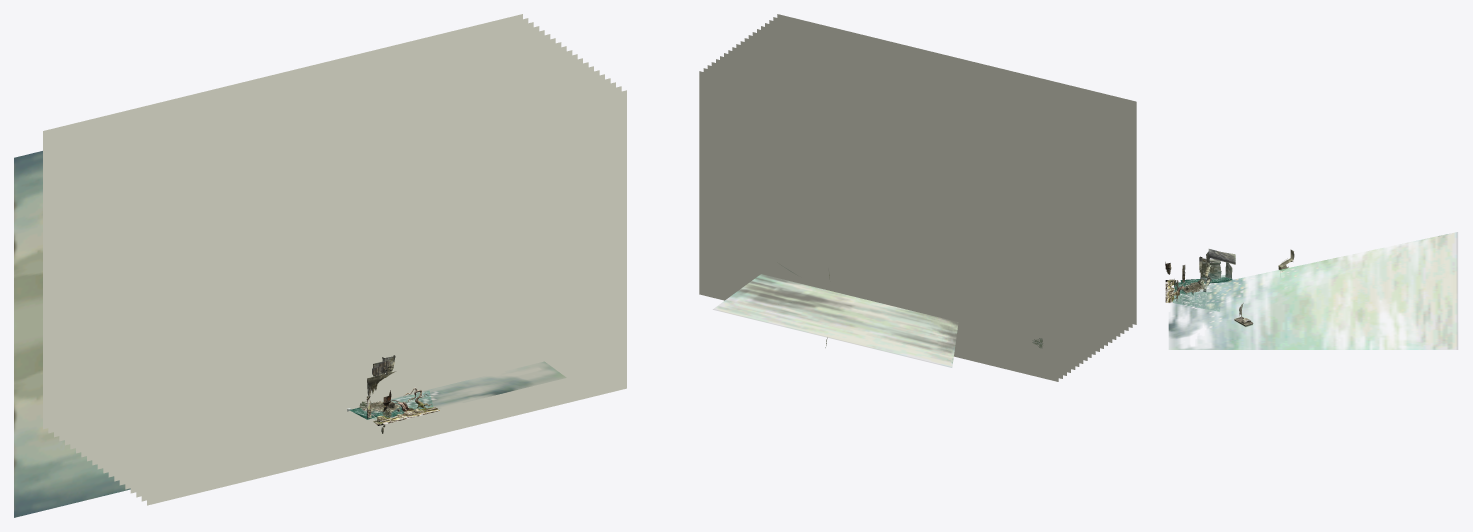
File: mvc2-swamp.glb
3 views of the same model, side by side, from view 1: azimuth 30°, elevation 25°; view 2: azimuth 150°, elevation 25°; view 3: azimuth 270°, elevation 25° (orthographic). The views are drawn at different scales.
Visible parts, largest first — view 1: Fog, Main_BG, BG_Fog; view 2: Fog, BG_Fog; view 3: BG_Fog, Main_BG, RightWater2.
Part boxes in pixels (left/top/right/bottom): Fog: left=43, top=14, right=626, bottom=505; Main_BG: left=14, top=151, right=440, bottom=517; BG_Fog: left=382, top=362, right=564, bottom=412; Fog: left=699, top=14, right=1136, bottom=381; BG_Fog: left=713, top=274, right=957, bottom=367; BG_Fog: left=1168, top=232, right=1457, bottom=349; Main_BG: left=1165, top=249, right=1235, bottom=302; RightWater2: left=1172, top=292, right=1219, bottom=311.
Size of what is drawn, in the model's own units: 253 by 222 by 177.
Materials: 10 (10 with a texture image).
